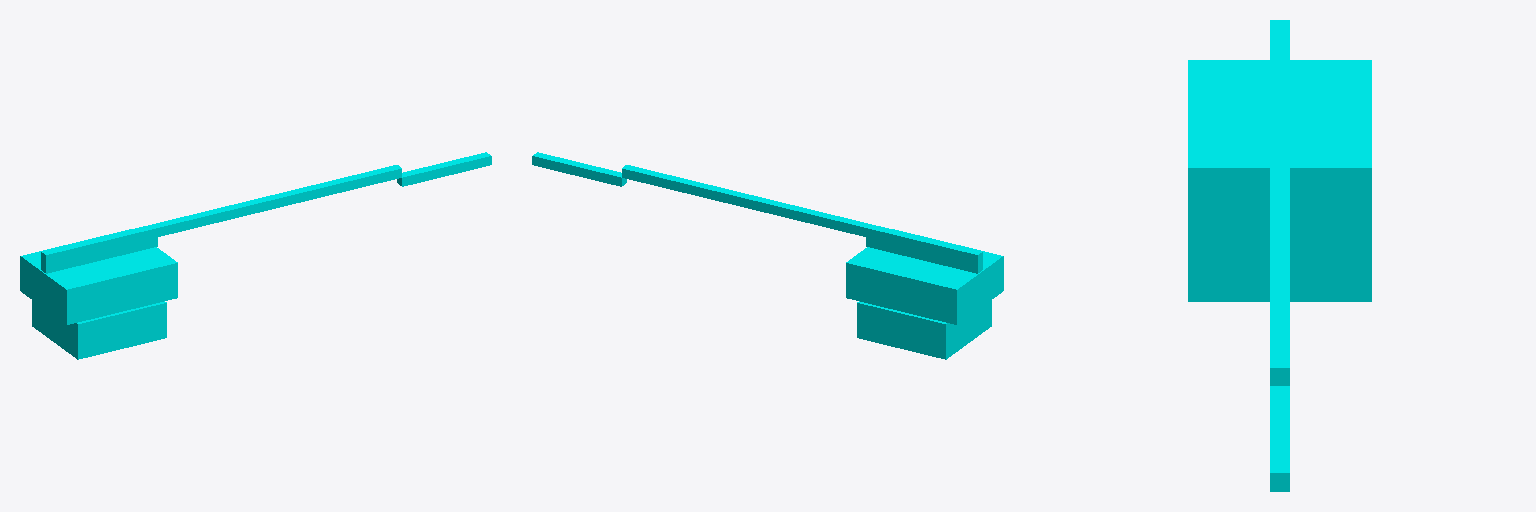
robot.urdf — c_spray_robot:
<robot name="c_spray_robot">

    <link name="base_link">
       <inertial>
         <origin xyz="0 0 0" rpy="0 0 0"/>
         <mass value="1000000"/>
         <inertia ixx="100"  ixy="0"  ixz="0" iyy="100" iyz="0" izz="100" />
       </inertial>
    
       <visual>
       <origin xyz="0 0 0" rpy="0 0 0" />
        <geometry>
          <box size="2 1.8 0.76" />
        </geometry>
        <material name="white">
          <color rgba="0 1.0 1.0 1.0"/>
        </material>
      </visual>
   
      <collision>
        <origin xyz="0 0 0" rpy="0 0 0"/>
        <geometry>
          <box size="2 1.8 0.76" />
        </geometry>
      </collision>
    </link>

    <joint name="base_link_to_platform" type="revolute">
        <origin xyz="0 0 0.8" rpy="0 0 0"/>
        <parent link="base_link"/>
        <child link="platform"/>
        <axis xyz="0.0 0.0 1.0"/>
        <calibration rising="0.0"/>
        <dynamics damping="0.0" friction="0.0"/>
        <limit effort="30" velocity="1.0" lower="-1.5" upper="1.5" />
        <safety_controller k_velocity="10" k_position="15" soft_lower_limit="-2.0" soft_upper_limit="0.5" />
    </joint>




    <link name="platform">
       <inertial>
         <origin xyz="0 0 0" rpy="0 0 0"/>
         <mass value="1000000"/>
         <inertia ixx="100"  ixy="0"  ixz="0" iyy="100" iyz="0" izz="100" />
       </inertial>
    
       <visual>
       <origin xyz="0 0 0" rpy="0 0 0" />
        <geometry>
          <box size="2.5 1.8 0.76" />
        </geometry>
        <material name="white">
          <color rgba="0 1.0 1.0 1.0"/>
        </material>
      </visual>
   
      <collision>
        <origin xyz="0 0 0" rpy="0 0 0"/>
        <geometry>
          <box size="2.5 1.8 0.76" />
        </geometry>
      </collision>
    </link>

    <joint name="platform_to_arm_1" type="revolute">
        <origin xyz="1.25 0 0.5" rpy="0 0 0"/>
        <parent link="platform"/>
        <child link="arm_1"/>
        <axis xyz="0.0 1.0 0.0"/>
        <calibration rising="0.0"/>
        <dynamics damping="0.0" friction="0.0"/>
        <limit effort="30" velocity="1.0" lower="0" upper="1" />
        <safety_controller k_velocity="10" k_position="15" soft_lower_limit="-2.0" soft_upper_limit="0.5" />
    </joint>
    
    <link name="arm_1">
       <inertial>
         <origin xyz="-1.25 0 0" rpy="0 0 0"/>
         <mass value="100"/>
         <inertia ixx="100"  ixy="0"  ixz="0" iyy="100" iyz="0" izz="100" />
       </inertial>
    
       <visual>
       <origin xyz="-1.25 0 0" rpy="0 0 0" />
        <geometry>
          <box size="2.5 0.2 0.2" />
        </geometry>
        <material name="white">
          <color rgba="0 1.0 1.0 1.0"/>
        </material>
      </visual>
   
      <collision>
        <origin xyz="-1.25 0 0" rpy="0 0 0"/>
        <geometry>
          <box size="2.5 0.2 0.2" />
        </geometry>
      </collision>
    </link>

    <joint name="arm_1_to_arm_2" type="revolute">
        <origin xyz="-2.5 0 0.2" rpy="0 0 0"/>
        <parent link="arm_1"/>
        <child link="arm_2"/>
        <axis xyz="0.0 1.0 0.0"/>
        <calibration rising="0.0"/>
        <dynamics damping="0.0" friction="0.0"/>
        <limit effort="30" velocity="1.0" lower="-1.5" upper="0" />
        <safety_controller k_velocity="10" k_position="15" soft_lower_limit="-2.0" soft_upper_limit="0.5" />
    </joint>
    
    <link name="arm_2">
       <inertial>
         <origin xyz="4 0 0" rpy="0 0 0"/>
         <mass value="100"/>
         <inertia ixx="100"  ixy="0"  ixz="0" iyy="100" iyz="0" izz="100" />
       </inertial>
    
       <visual>
       <origin xyz="4 0 0" rpy="0 0 0" />
        <geometry>
          <box size="8 0.2 0.2" />
        </geometry>
        <material name="white">
          <color rgba="0 1.0 1.0 1.0"/>
        </material>
      </visual>
   
      <collision>
        <origin xyz="4 0 0" rpy="0 0 0"/>
        <geometry>
          <box size="8 0.2 0.2" />
        </geometry>
      </collision>
    </link>

    <joint name="arm_2_to_arm_3" type="revolute">
        <origin xyz="8 0 -0.2" rpy="0 0 0"/>
        <parent link="arm_2"/>
        <child link="arm_3"/>
        <axis xyz="0.0 1.0 0.0"/>
        <calibration rising="0.0"/>
        <dynamics damping="0.0" friction="0.0"/>
        <limit effort="30" velocity="1.0" lower="0" upper="3.14" />
        <safety_controller k_velocity="10" k_position="15" soft_lower_limit="-2.0" soft_upper_limit="0.5" />
    </joint>
    
    <link name="arm_3">
       <inertial>
         <origin xyz="1 0 0" rpy="0 0 0"/>
         <mass value="100"/>
         <inertia ixx="100"  ixy="0"  ixz="0" iyy="100" iyz="0" izz="100" />
       </inertial>
    
       <visual>
       <origin xyz="1 0 0" rpy="0 0 0" />
        <geometry>
          <box size="2 0.2 0.2" />
        </geometry>
        <material name="black">
          <color rgba="0 1.0 1.0 1.0"/>
        </material>
      </visual>
   
      <collision>
        <origin xyz="1 0 0" rpy="0 0 0"/>
        <geometry>
          <box size="2 0.2 0.2" />
        </geometry>
      </collision>
    </link>





</robot>

--- Facts derived from the render (not from the file) ---
Views: 3 orthographic renders of the robot side by side, from view 1: azimuth 30°, elevation 25°; view 2: azimuth 150°, elevation 25°; view 3: azimuth 270°, elevation 25°.
Robot: c_spray_robot — 5 links, 4 joints (4 revolute); root link base_link; default pose: all joints at 0.
Visible links, largest first — view 1: platform, arm_2, base_link, arm_3, arm_1; view 2: platform, arm_2, base_link, arm_3, arm_1; view 3: platform, base_link, arm_2, arm_3.
Boxes of the visible links, box(x1,y1,x2,y2) form: platform: box(20, 229, 177, 324); arm_2: box(41, 165, 401, 263); base_link: box(32, 300, 166, 359); arm_3: box(397, 152, 491, 186); arm_1: box(41, 237, 157, 273); platform: box(846, 229, 1003, 324); arm_2: box(622, 165, 982, 263); base_link: box(857, 300, 991, 359); arm_3: box(532, 152, 626, 186); arm_1: box(866, 237, 982, 273); platform: box(1188, 60, 1371, 238); base_link: box(1188, 239, 1371, 301); arm_2: box(1270, 20, 1289, 385); arm_3: box(1270, 386, 1289, 491).
Size in the robot's own frame: 10 by 1.8 by 1.98 metres.
Geometry: primitives only (box / cylinder / sphere), no mesh files.